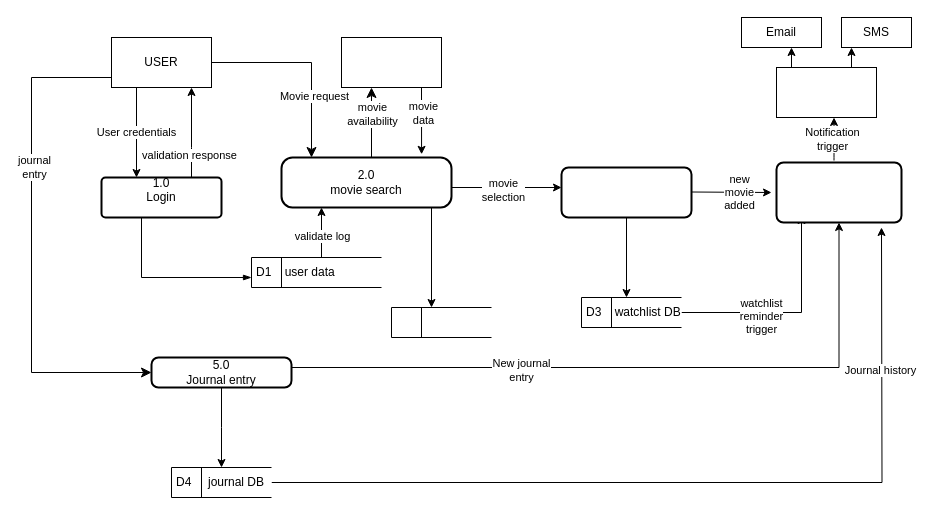
Image size: 933x515. Some labels were removed from this diagram. The centre of each missing label's shape, as x and y in pixels:
"3.0 Add to watchlist" goes at point 626,192.
"4.0 Notification scheduler" goes at point 838,192.
"D2 user profile" goes at point 441,322.
"Notification gateway" goes at point 826,92.
"TMDb API" goes at point 391,62.
